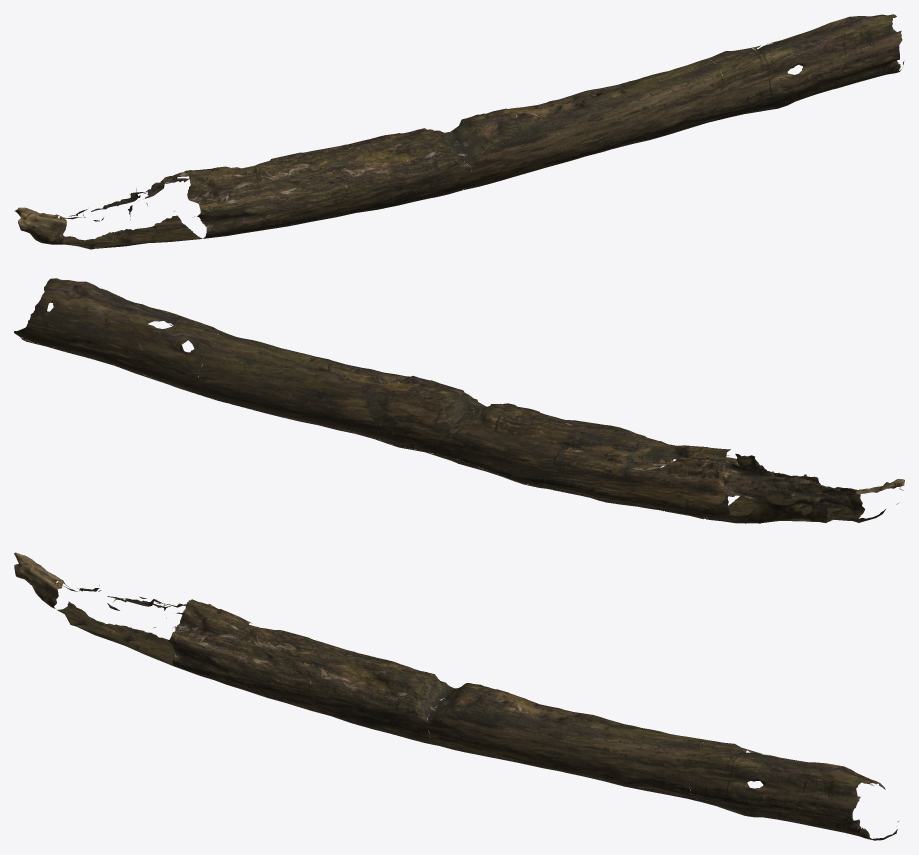
The model's file is ph_dead_tree_trunk.glb.
The picture shows the model from 3 angles, top to bottom: view 1: azimuth 30°, elevation 25°; view 2: azimuth 150°, elevation 25°; view 3: azimuth 330°, elevation 25°; orthographic projection.
Visible parts, largest first — view 1: Hero; view 2: Hero; view 3: Hero.
Part boxes in pixels (<box>): Hero: <box>14,14,904,249</box>; Hero: <box>14,278,904,523</box>; Hero: <box>14,552,898,840</box>.
Size of the model in its own units: 0.9997 by 0.0948 by 0.0899.
Materials: 1 (1 with a texture image).
